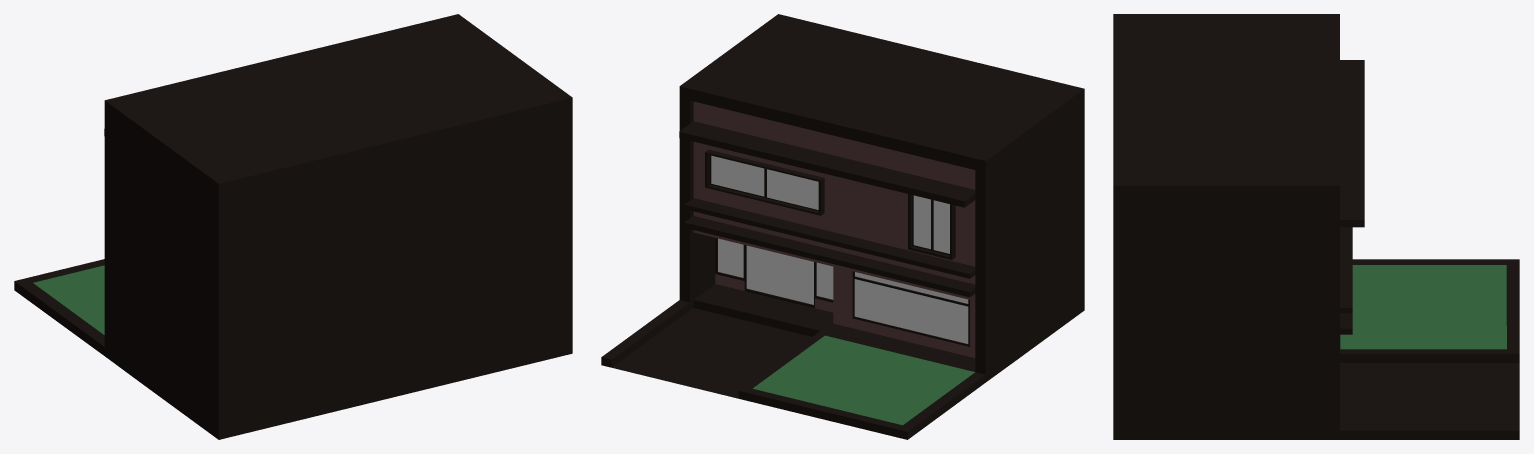
File: rumah gede.fbx
3 views of the same model, side by side, from view 1: azimuth 30°, elevation 25°; view 2: azimuth 150°, elevation 25°; view 3: azimuth 270°, elevation 25° (orthographic). The views are drawn at different scales.
Visible parts, largest first — view 1: Cube.055; view 2: Cube.055; view 3: Cube.055.
Part boxes in pixels (left/top/right/bottom): Cube.055: left=14, top=14, right=572, bottom=439; Cube.055: left=601, top=14, right=1084, bottom=439; Cube.055: left=1113, top=14, right=1519, bottom=439.
Bounding box in the file's own units: 37.19 × 25.73 × 37.22.
